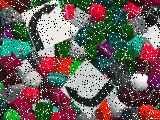Right: (61, 59, 116, 117), (21, 0, 71, 52)
